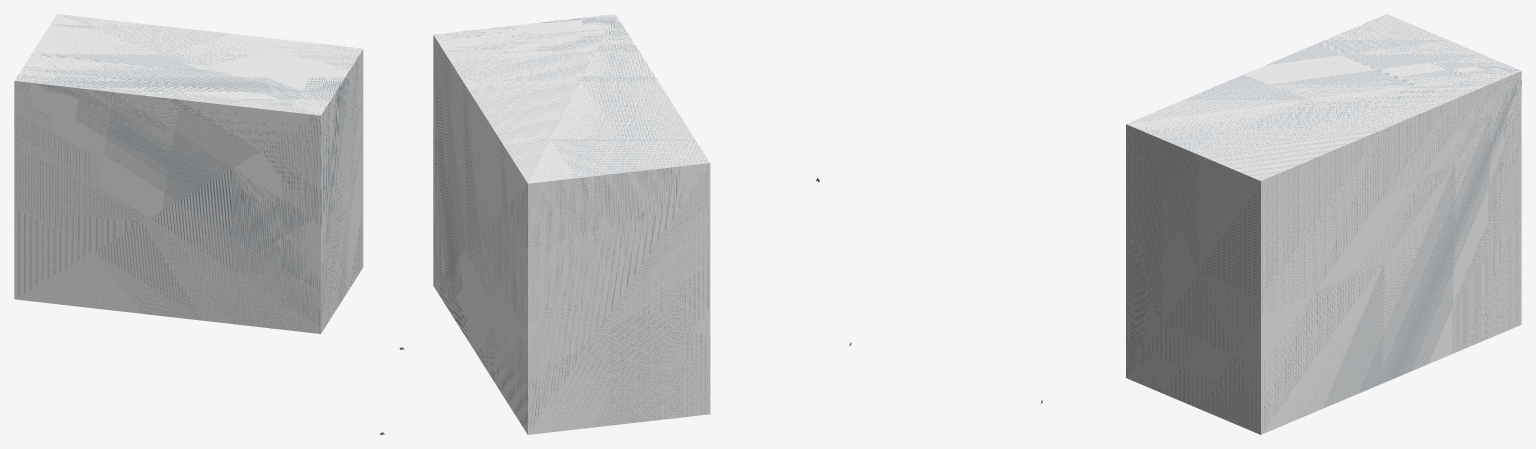
3 renders of one model, left to right at view 1: azimuth 30°, elevation 25°; view 2: azimuth 150°, elevation 25°; view 3: azimuth 270°, elevation 25°, orthographic. The views are drawn at different scales.
Visible parts, largest first — view 1: SketchUp; view 2: SketchUp; view 3: SketchUp.
Part boxes in pixels (x1,y1,x2,y2): SketchUp: (14,14,363,333); SketchUp: (433,14,710,434); SketchUp: (1126,14,1521,434).
Bounding box in the file's own units: 2781 × 4727 × 1969.
